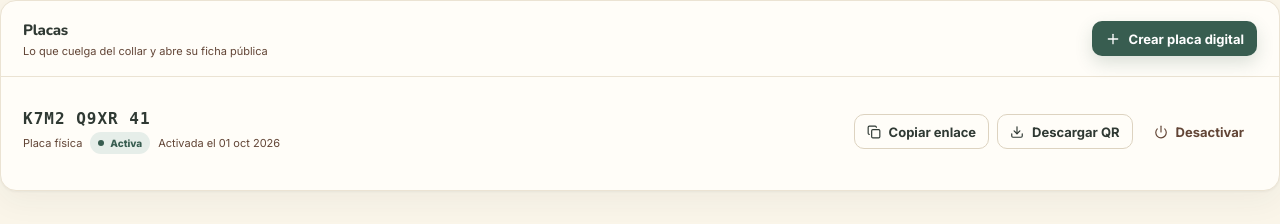
Test: PetTags › Descargar QR › shows an error when generation fails
Step 1. Click the button "Descargar QR" → point(1065, 132), box [997, 114, 1133, 149]
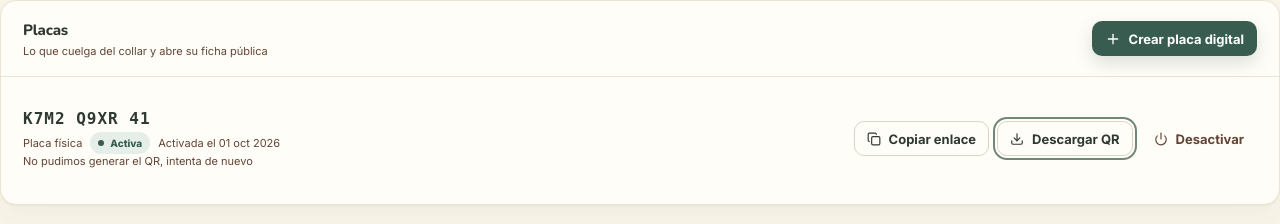
Expected: the text "No pudimos generar el QR, intenta de nuevo" is shown, [23, 154, 280, 168]
